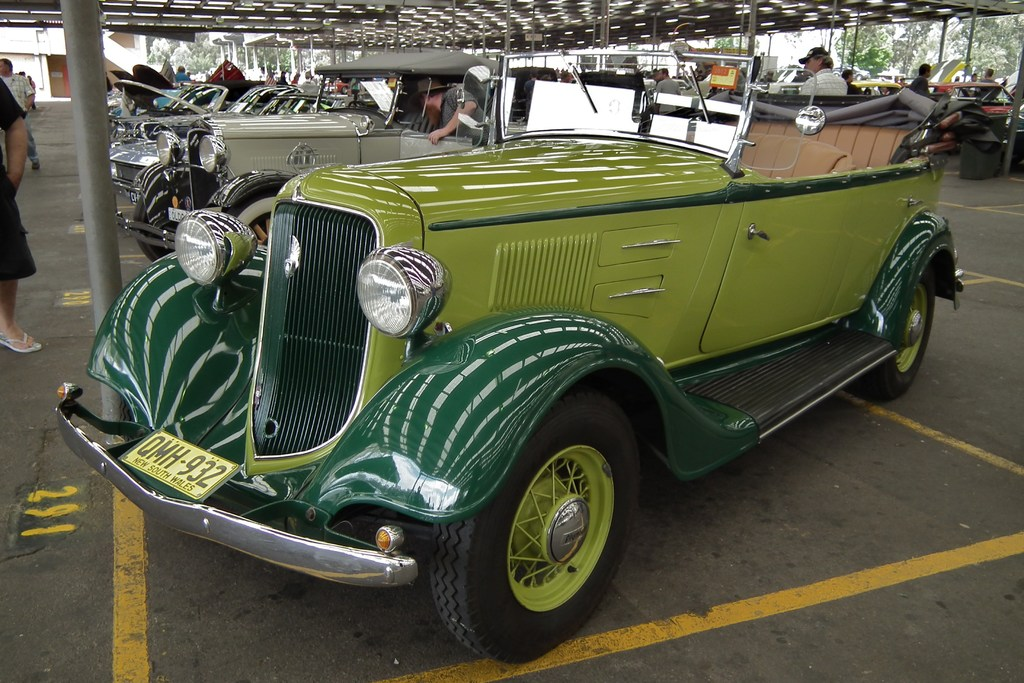Car: (85, 67, 948, 661), (106, 49, 1023, 258)
